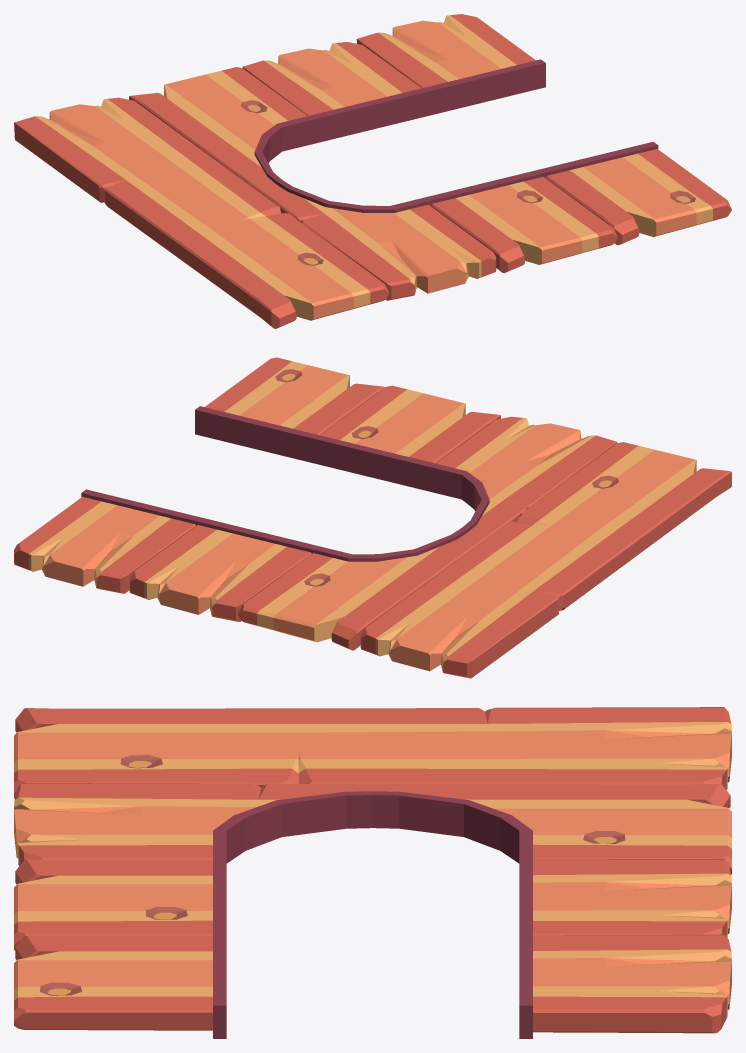
File: PlankDoor.fbx
The picture shows the model from 3 angles, top to bottom: view 1: azimuth 30°, elevation 25°; view 2: azimuth 150°, elevation 25°; view 3: azimuth 270°, elevation 25°; orthographic projection. The views are drawn at different scales.
Parts seen in each view (by area): view 1: Cube.004, Cube.002; view 2: Cube.004, Cube.002; view 3: Cube.004, Cube.002.
Boxes of the visible parts, x1,y1,x2,y2 form: Cube.004: (14, 14, 731, 328); Cube.002: (254, 59, 658, 212); Cube.004: (14, 357, 731, 678); Cube.002: (81, 406, 489, 561); Cube.004: (14, 707, 731, 1033); Cube.002: (213, 791, 532, 1038).
Size of the model in its own units: 300 by 15.28 by 300.
